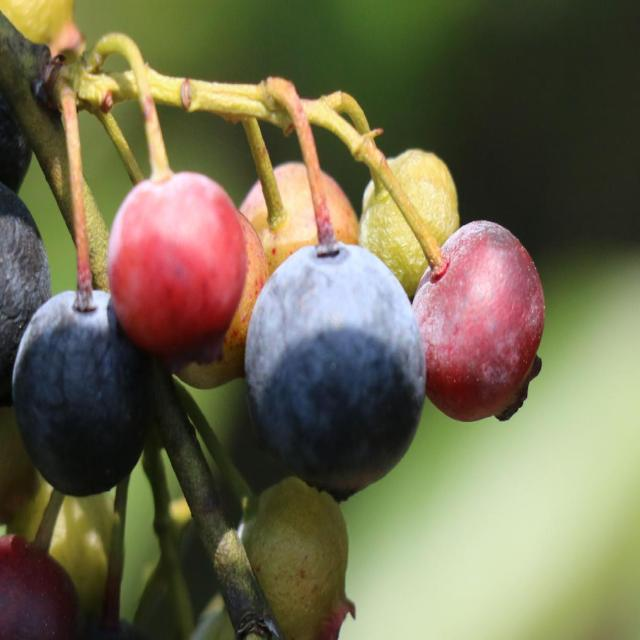blueberry: (236, 230, 429, 506), (7, 281, 168, 501), (0, 158, 57, 412)
blueberry-halfripe: (408, 214, 549, 424), (106, 165, 244, 346)
blueberry-unripe: (236, 458, 355, 638), (360, 136, 460, 279), (242, 158, 359, 259)
